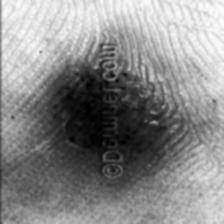Toxin: (56, 67, 160, 148)
